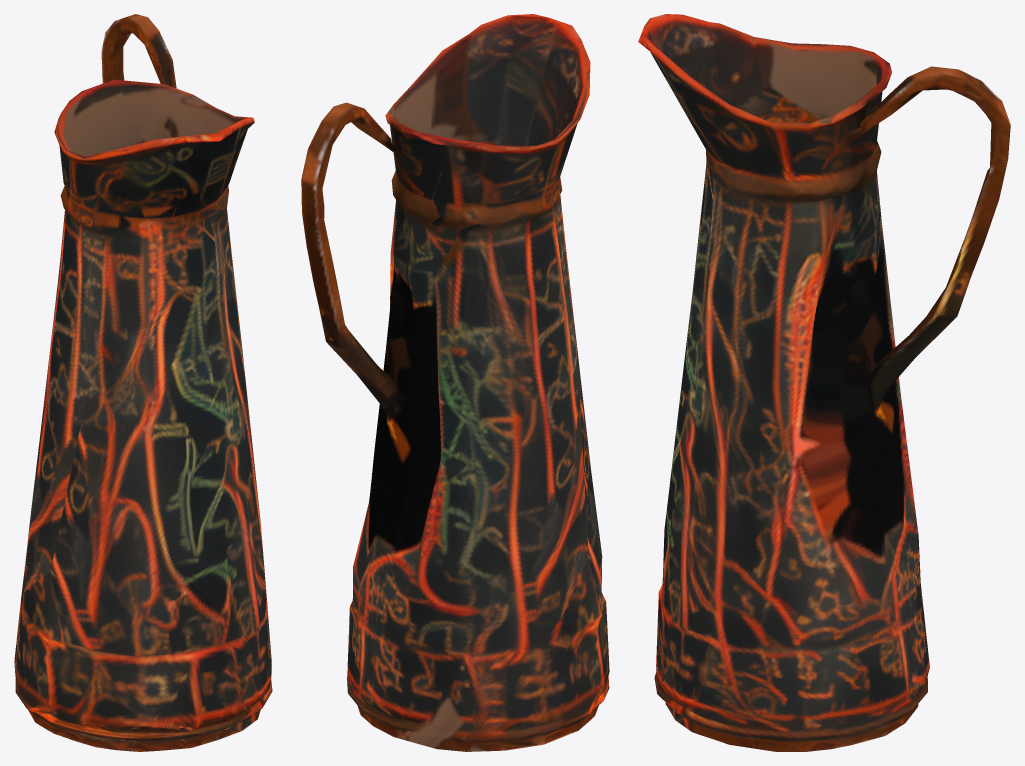
File: base_basic_shaded.fbx
3 views of the same model, side by side, from view 1: azimuth 30°, elevation 25°; view 2: azimuth 150°, elevation 25°; view 3: azimuth 270°, elevation 25° (orthographic). The views are drawn at different scales.
Visible parts, largest first — view 1: model; view 2: model; view 3: model.
Boxes of the visible parts, x1=… form: model: x1=14, y1=14, x2=272, y2=751; model: x1=301, y1=14, x2=609, y2=751; model: x1=638, y1=14, x2=1010, y2=751.
Bounding box in the file's own units: 71.69 × 190 × 96.18.
